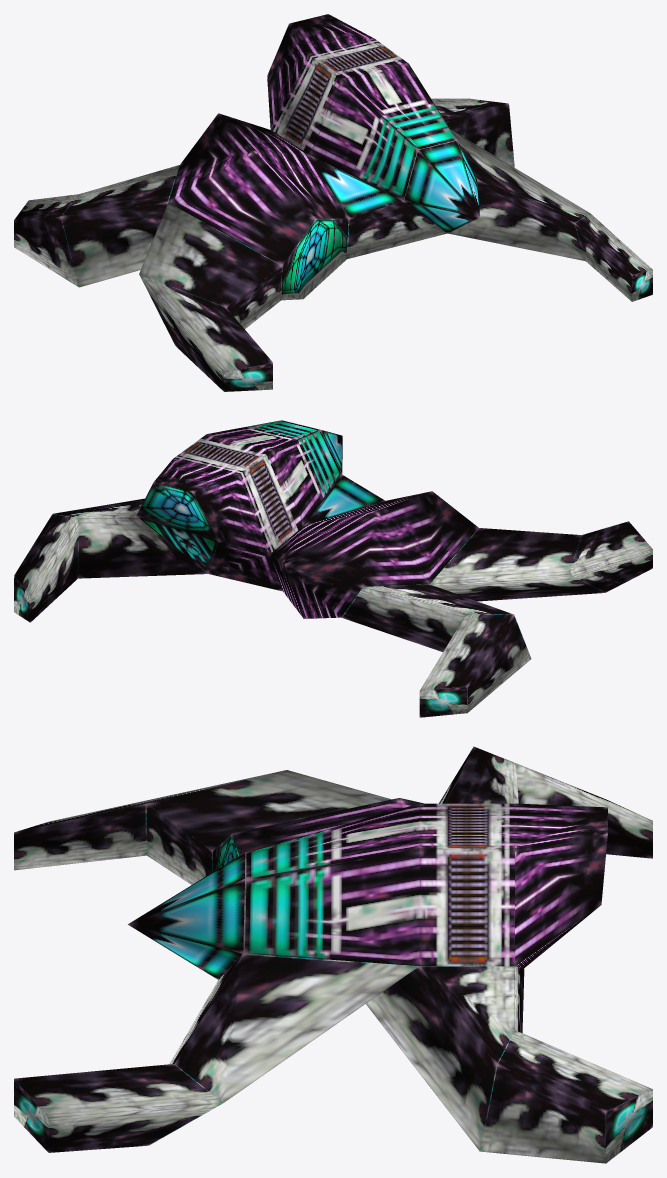
File: Arakn.obj
3 renders of one model, top to bottom at view 1: azimuth 30°, elevation 25°; view 2: azimuth 150°, elevation 25°; view 3: azimuth 270°, elevation 25°, orthographic. The views are drawn at different scales.
Visible parts, largest first — view 1: default; view 2: default; view 3: default.
Part boxes in pixels (bbox=[...]): default: bbox=[14, 14, 652, 391]; default: bbox=[14, 420, 652, 717]; default: bbox=[14, 746, 652, 1163].
Bounding box in the file's own units: 4.81 × 1.67 × 4.15.
1 material, 1 textured.
